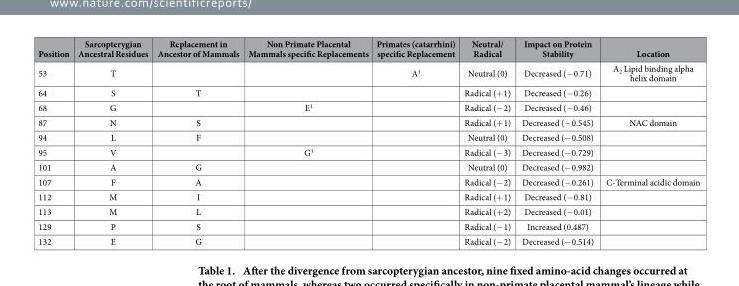table: (37, 37, 699, 247)
table column: (243, 37, 371, 247), (599, 37, 699, 247), (152, 37, 243, 247), (371, 37, 459, 247), (515, 37, 599, 247), (72, 37, 152, 247), (459, 37, 515, 247), (37, 37, 72, 247)
table column header: (37, 37, 699, 60)
table row: (37, 60, 699, 84), (37, 37, 699, 60), (37, 84, 699, 99), (37, 99, 699, 114), (37, 114, 699, 129), (37, 129, 699, 144), (37, 144, 699, 159), (37, 159, 699, 174), (37, 174, 699, 189), (37, 203, 699, 218), (37, 218, 699, 233), (37, 189, 699, 203), (37, 233, 699, 247)
